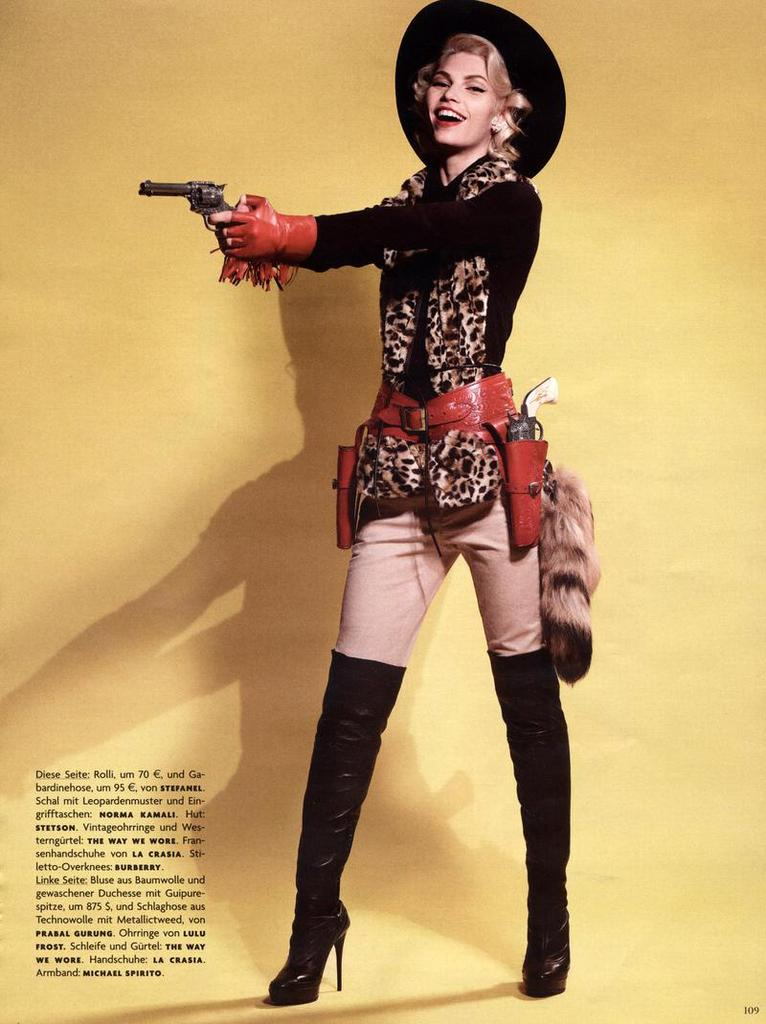non-violence: (182, 16, 593, 984)
weapon: (140, 154, 260, 254)
